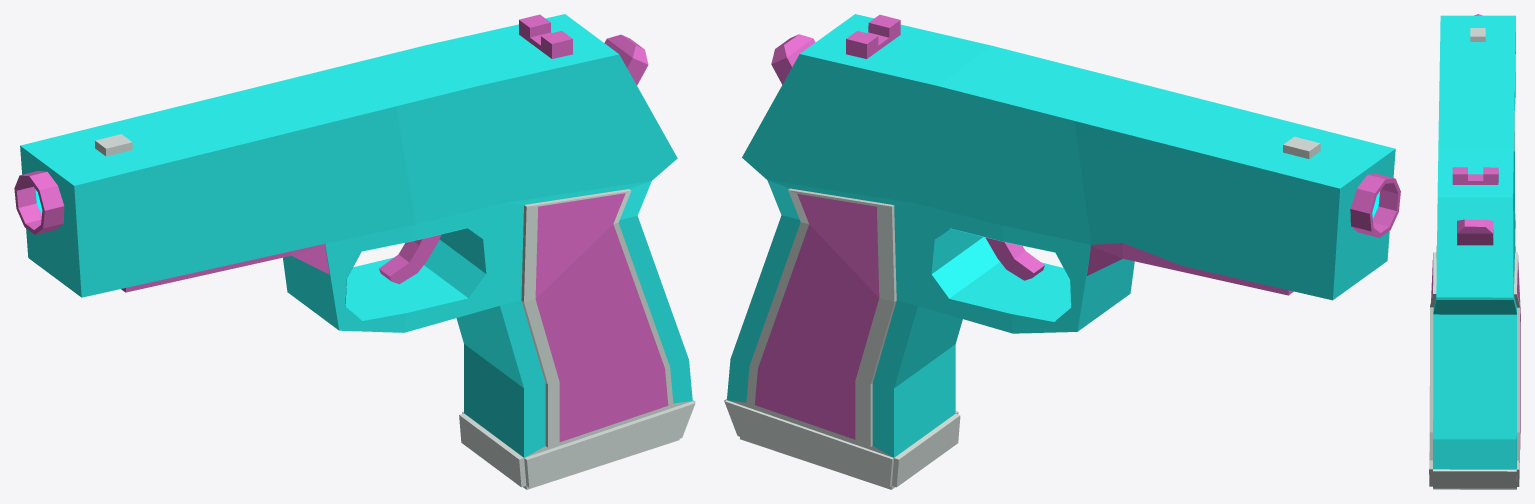
File: Pistol.fbx
3 views of the same model, side by side, from view 1: azimuth 30°, elevation 25°; view 2: azimuth 150°, elevation 25°; view 3: azimuth 270°, elevation 25° (orthographic). The views are drawn at different scales.
Visible parts, largest first — view 1: Base of the gun; view 2: Base of the gun; view 3: Base of the gun.
Boxes of the visible parts, x1,y1,x2,y2 form: Base of the gun: [14, 14, 695, 489]; Base of the gun: [724, 14, 1400, 489]; Base of the gun: [1429, 14, 1520, 489].
Bounding box in the file's own units: 90.75 × 498 × 320.
